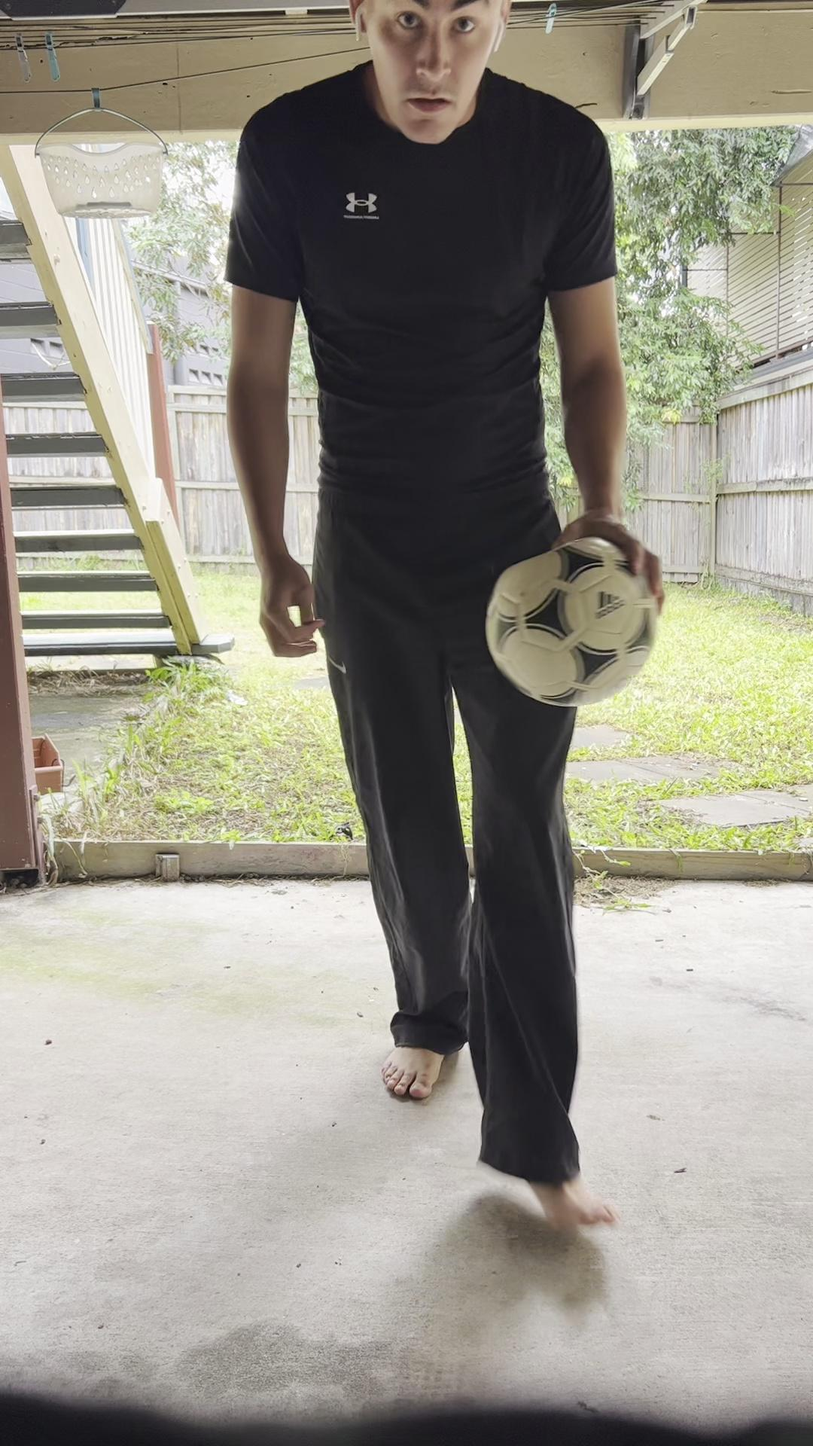ball: (482, 530, 654, 707)
foot: (533, 1171, 618, 1234), (379, 1045, 443, 1096)
person: (221, 0, 669, 1238)
